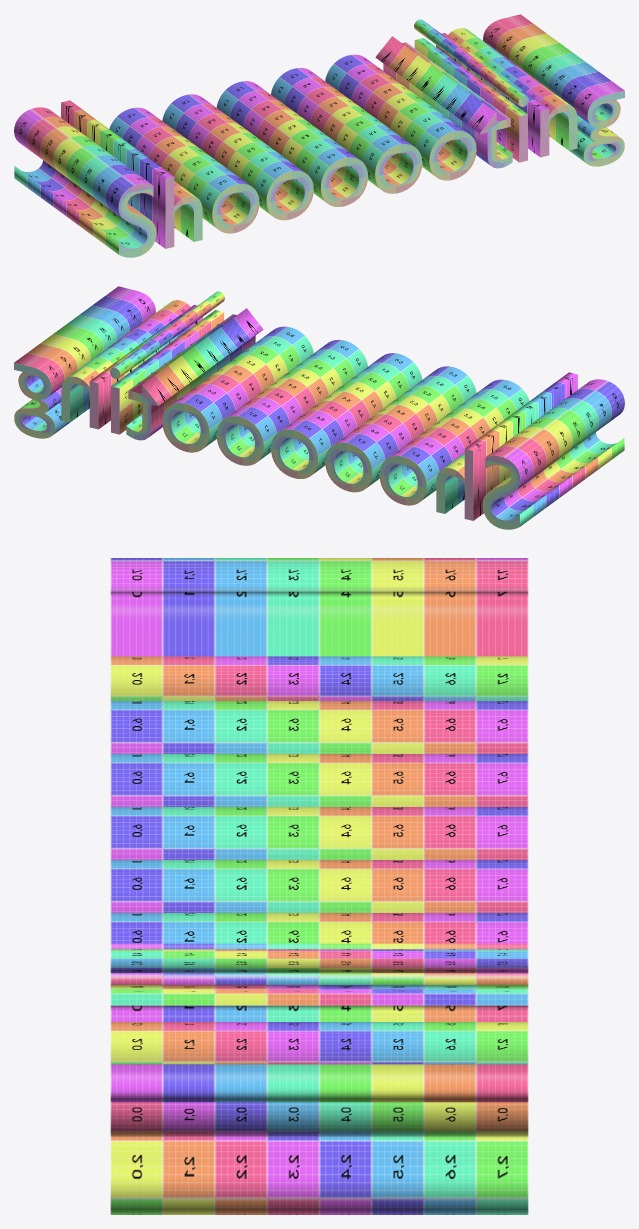
File: Title.obj
3 renders of one model, top to bottom at view 1: azimuth 30°, elevation 25°; view 2: azimuth 150°, elevation 25°; view 3: azimuth 270°, elevation 25°, orthographic. The views are drawn at different scales.
Parts seen in each view (by area): view 1: テキスト; view 2: テキスト; view 3: テキスト.
Part boxes in pixels (x1,y1,x2,y2): テキスト: (14, 14, 624, 257); テキスト: (14, 286, 624, 529); テキスト: (110, 558, 528, 1214).
Size of the model in its own units: 5.15 by 0.921 by 1.84.
Materials: 1 (1 with a texture image).
